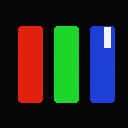4 line_v: (104, 27, 110, 47)
